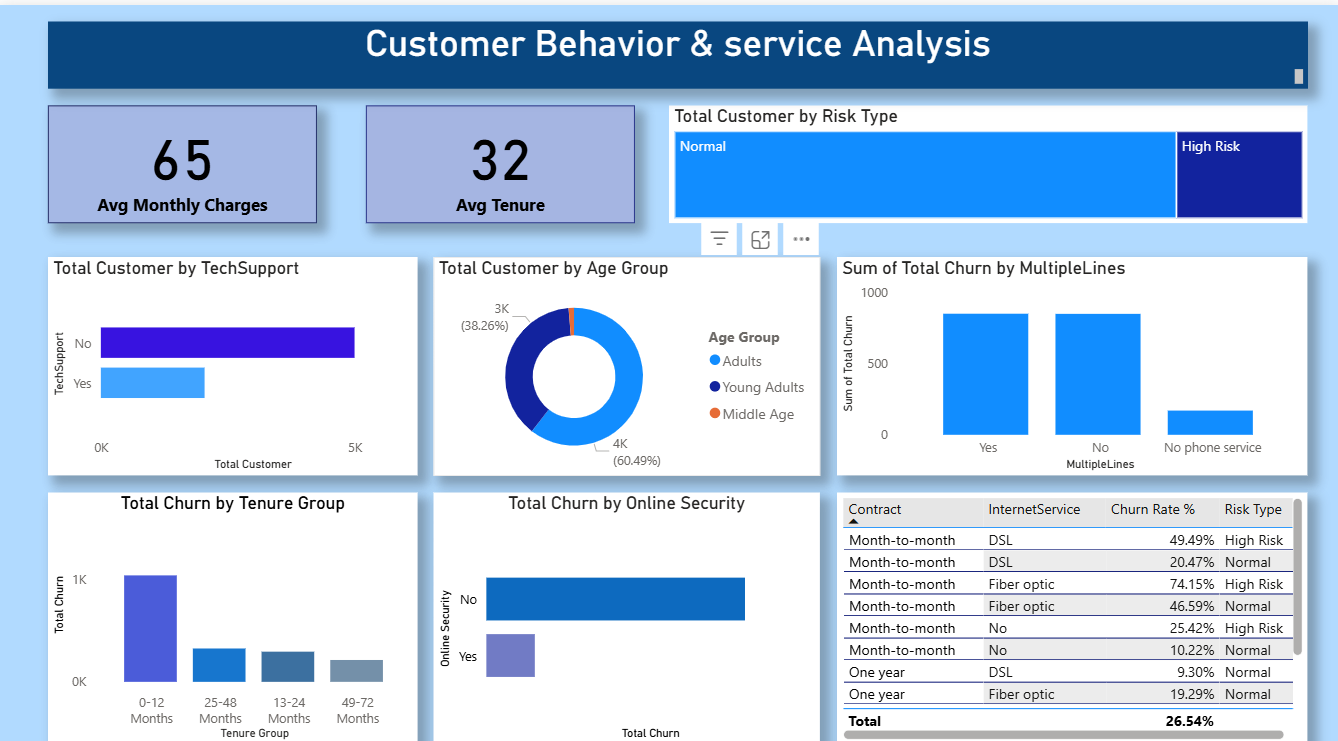

What the dashboard file says about the page in this screenshot:
{"tool":"powerbi","page":{"name":"Customer  Insights","canvas":[1280,720],"ordinal":1},"visuals":[{"type":"card","fields":{"Values":["Churn_data3.Avg Monthly Charges"]},"box":[48,96,256,112],"z":0},{"type":"card","fields":{"Values":["Churn_data3.Avg Tenure"]},"box":[352,96,256,112],"z":1000},{"type":"treemap","fields":{"Group":["Churn_data3.Risk Type"],"Values":["Churn_data3.Total Customer"]},"box":[640,96,608,112],"z":2000},{"type":"barChart","fields":{"Y":["Churn_data3.Total Customer"],"Category":["internet_data1.TechSupport"]},"box":[48,240,352,208],"z":3000},{"type":"donutChart","fields":{"Category":["Customer_data2.Age Group"],"Y":["Churn_data3.Total Customer"]},"box":[416,240,368,208],"z":4000},{"type":"lineStackedColumnComboChart","title":"Total Churn by Tenure Group","fields":{"Category":["Churn_data3.Tenure Group"],"Y":["Sum(Churn_data3.Churn2)"]},"box":[48,464,352,240],"z":5000},{"type":"barChart","title":"Total Churn by Online Security","fields":{"Y":["Sum(Churn_data3.Total Churn)"],"Category":["internet_data1.OnlineSecurity"]},"box":[416,464,368,240],"z":6000},{"type":"columnChart","fields":{"Category":["internet_data1.MultipleLines"],"Y":["Sum(Churn_data3.Total Churn)"]},"box":[800,240,448,208],"z":7000},{"type":"tableEx","fields":{"Values":["Churn_data3.Contract","internet_data1.InternetService","Churn_data3.Churn Rate %","Churn_data3.Risk Type"]},"box":[800,464,448,240],"z":8000},{"type":"textbox","title":"Customer Behavior & service Analysis","box":[48,16,1200,64],"z":9000}]}

Visuals, with their boxes in screenshot pixels (x1, y1, x2, y2), scaled from the page's 1280x720 canvas onto the 1338x741 screenshot:
card - Churn_data3.Avg Monthly Charges: (x1=50, y1=99, x2=318, y2=214)
card - Churn_data3.Avg Tenure: (x1=368, y1=99, x2=636, y2=214)
treemap - Churn_data3.Risk Type x Churn_data3.Total Customer: (x1=669, y1=99, x2=1305, y2=214)
barChart - Churn_data3.Total Customer x internet_data1.TechSupport: (x1=50, y1=247, x2=418, y2=461)
donutChart - Customer_data2.Age Group x Churn_data3.Total Customer: (x1=435, y1=247, x2=820, y2=461)
"Total Churn by Tenure Group" lineStackedColumnComboChart: (x1=50, y1=478, x2=418, y2=725)
"Total Churn by Online Security" barChart: (x1=435, y1=478, x2=820, y2=725)
columnChart - internet_data1.MultipleLines x Sum(Churn_data3.Total Churn): (x1=836, y1=247, x2=1305, y2=461)
tableEx - Churn_data3.Contract x internet_data1.InternetService: (x1=836, y1=478, x2=1305, y2=725)
"Customer Behavior & service Analysis" textbox: (x1=50, y1=16, x2=1305, y2=82)
